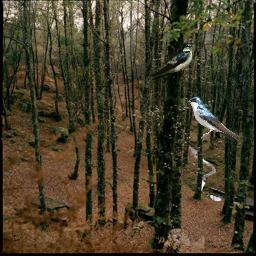Swallow: (187, 97, 240, 141), (149, 42, 193, 81)
